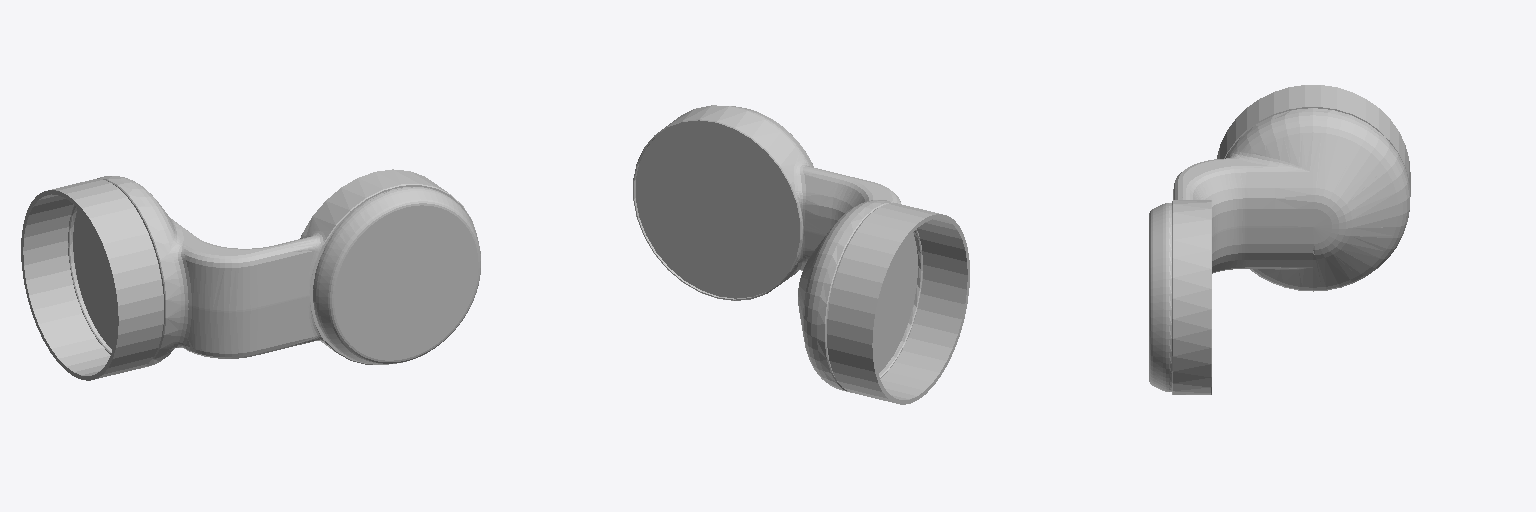
Rendered from forearm_roll_link.obj.
The picture shows the model from 3 angles: view 1: azimuth 30°, elevation 25°; view 2: azimuth 150°, elevation 25°; view 3: azimuth 270°, elevation 25°; orthographic projection.
Visible parts, largest first — view 1: forearm_roll_link; view 2: forearm_roll_link; view 3: forearm_roll_link.
Boxes of the visible parts, box(x1,y1,x2,y2) form: forearm_roll_link: box(21, 169, 480, 380); forearm_roll_link: box(633, 105, 969, 404); forearm_roll_link: box(1149, 85, 1410, 394).
Bounding box in the file's own units: 0.2085 × 0.104 × 0.139.